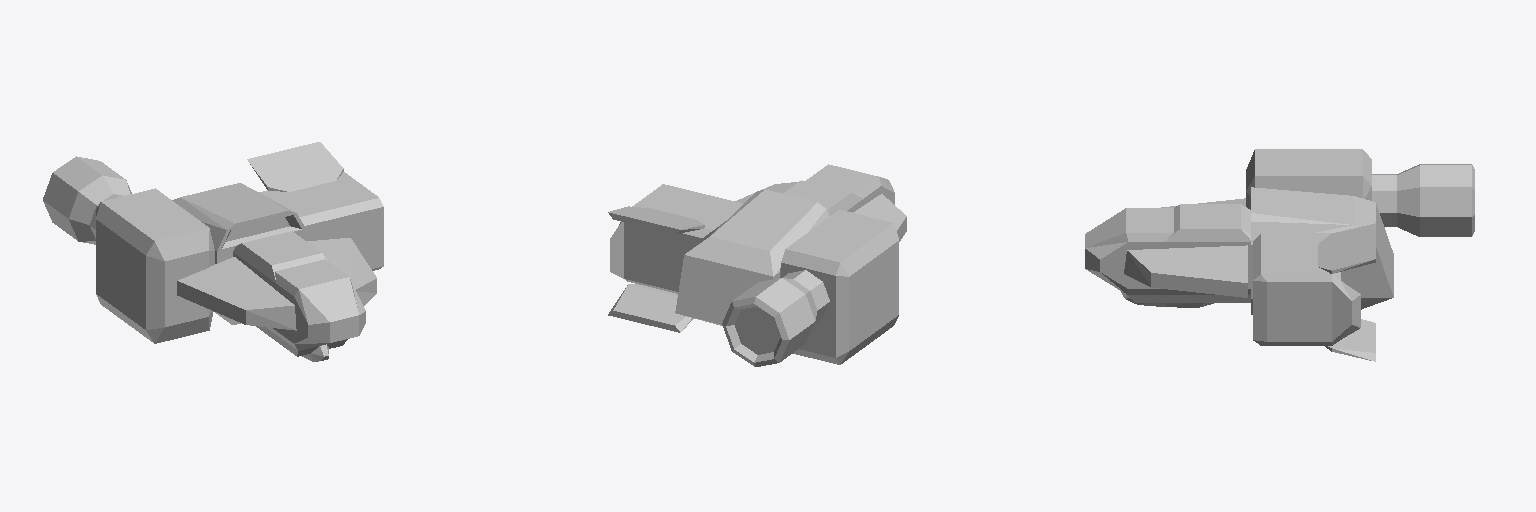
Rendered from fig32_static.obj.
3 renders of one model, left to right at view 1: azimuth 30°, elevation 25°; view 2: azimuth 150°, elevation 25°; view 3: azimuth 270°, elevation 25°, orthographic.
Visible parts, largest first — view 1: frm-cube9_1, frm-extru2_1, frm-cube1_1, frm-extru3_1, frm-cube20_1, frm-cyl1_1_1, frm-cube7_1_1, frm-cube18_1; view 2: frm-cube9_1, frm-extru3_1, frm-cyl1_1_1, frm-cube1_1, frm-extru2_1, frm-cube7_3_1, frm-cube7_1_1, frm-cube20_1, frm-cube14_1; view 3: frm-extru2_1, frm-cube1_1, frm-extru3_1, frm-cyl1_1_1, frm-cube9_1, frm-cube18_1, frm-cube7_1_1, frm-cube14_1, frm-cube7_3_1.
Part boxes in pixels (left/top/right/bottom): frm-cube9_1: left=96, top=188, right=214, bottom=343; frm-extru2_1: left=233, top=231, right=365, bottom=356; frm-cube1_1: left=259, top=172, right=383, bottom=270; frm-extru3_1: left=172, top=183, right=306, bottom=324; frm-cube20_1: left=177, top=257, right=296, bottom=330; frm-cyl1_1_1: left=43, top=156, right=131, bottom=244; frm-cube7_1_1: left=247, top=142, right=343, bottom=191; frm-cube18_1: left=307, top=238, right=376, bottom=305; frm-cube9_1: left=780, top=210, right=898, bottom=364; frm-extru3_1: left=675, top=189, right=829, bottom=325; frm-cyl1_1_1: left=722, top=270, right=829, bottom=366; frm-cube1_1: left=624, top=184, right=742, bottom=293; frm-extru2_1: left=783, top=164, right=894, bottom=215; frm-cube7_3_1: left=608, top=284, right=693, bottom=332; frm-cube7_1_1: left=608, top=206, right=704, bottom=234; frm-cube20_1: left=853, top=194, right=906, bottom=241; frm-cube14_1: left=610, top=222, right=623, bottom=278; frm-extru2_1: left=1085, top=204, right=1250, bottom=302; frm-cube1_1: left=1253, top=233, right=1340, bottom=345; frm-extru3_1: left=1251, top=187, right=1393, bottom=314; frm-cyl1_1_1: left=1372, top=164, right=1474, bottom=236; frm-cube9_1: left=1246, top=149, right=1371, bottom=209; frm-cube18_1: left=1124, top=245, right=1247, bottom=297; frm-cube7_1_1: left=1318, top=223, right=1375, bottom=273; frm-cube14_1: left=1332, top=280, right=1360, bottom=341; frm-cube7_3_1: left=1325, top=319, right=1375, bottom=361.
Size of the model in its own units: 4.74 by 1.94 by 6.62.